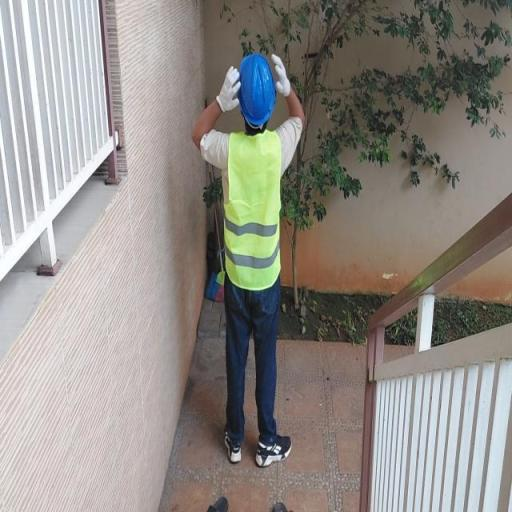Person: (198, 54, 318, 477)
gloves: (268, 52, 298, 104), (216, 66, 242, 110)
helmet: (227, 48, 282, 124)
vest: (218, 127, 288, 296)
